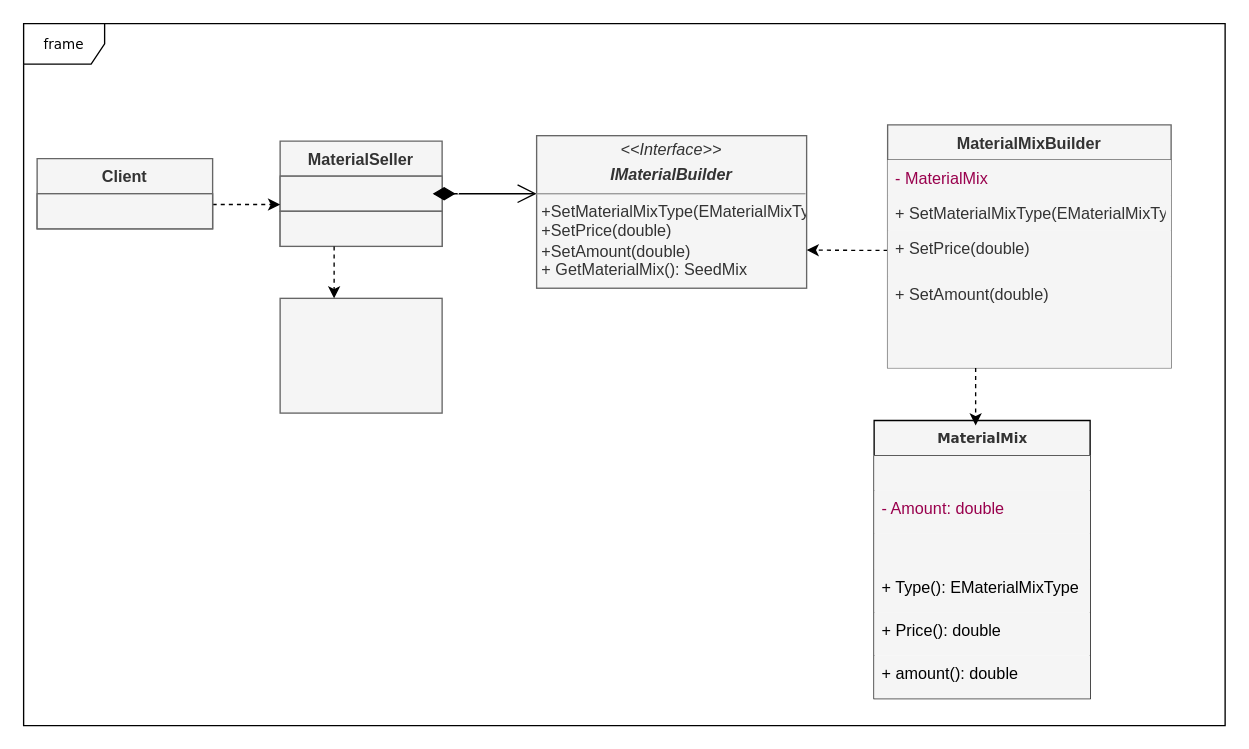
Some shapes in this 1249 by 749 pixel diagram are drawn without their labels. Each missing label, with the centre of its shape:
"+ Construct()" goes at (x=360, y=193).
"+ GetMaterialMix(): MaterialMix" goes at (x=1028, y=344).
"+ GetResult()" goes at (x=360, y=228).
"- EMaterialMixType: Type" goes at (x=981, y=472).
"- Price: double" goes at (x=981, y=550).
"<<enumeration>> EMaterialMixType EWood EGlass EIron" goes at (x=360, y=355).
"IMaterialMixBuilder" goes at (x=124, y=210).
